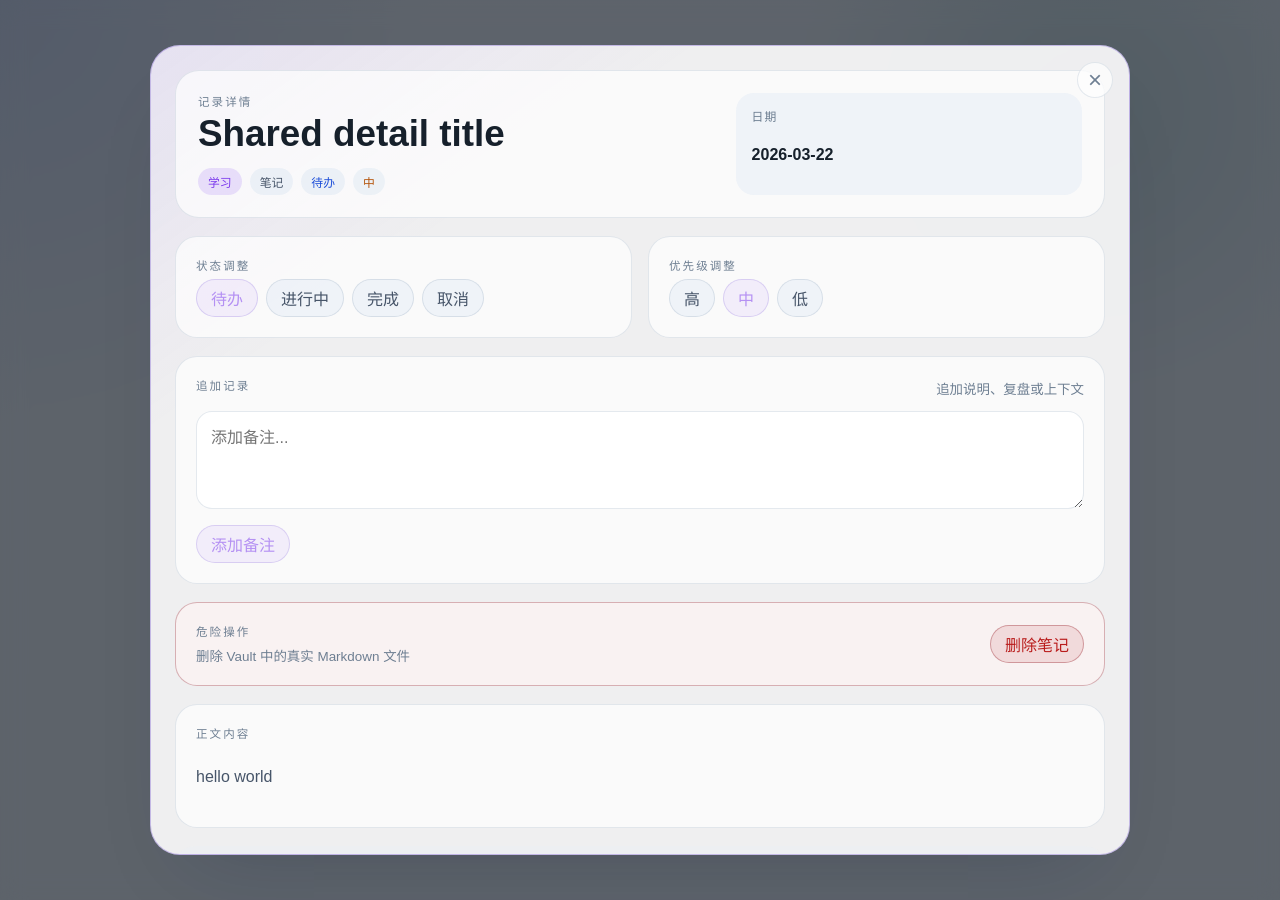
it: NoteDetail › prefers shared note titles on the main detail and delete-confirm paths
Click the button "删除笔记".
click(1037, 644)  # box x1=990 y1=625 x2=1084 y2=663
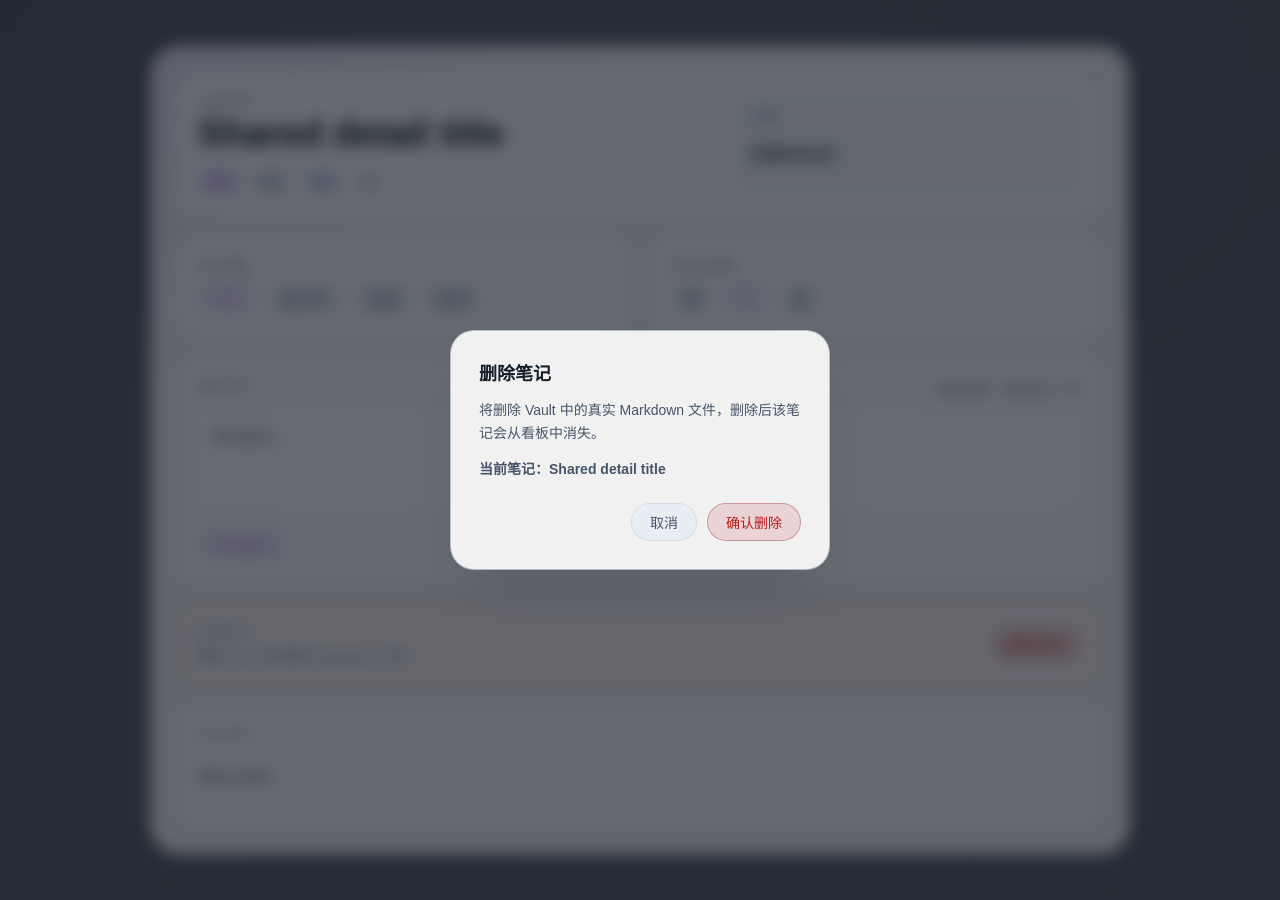
Expected: the text "当前笔记：Shared detail title" is shown, x1=479 y1=461 x2=666 y2=477
